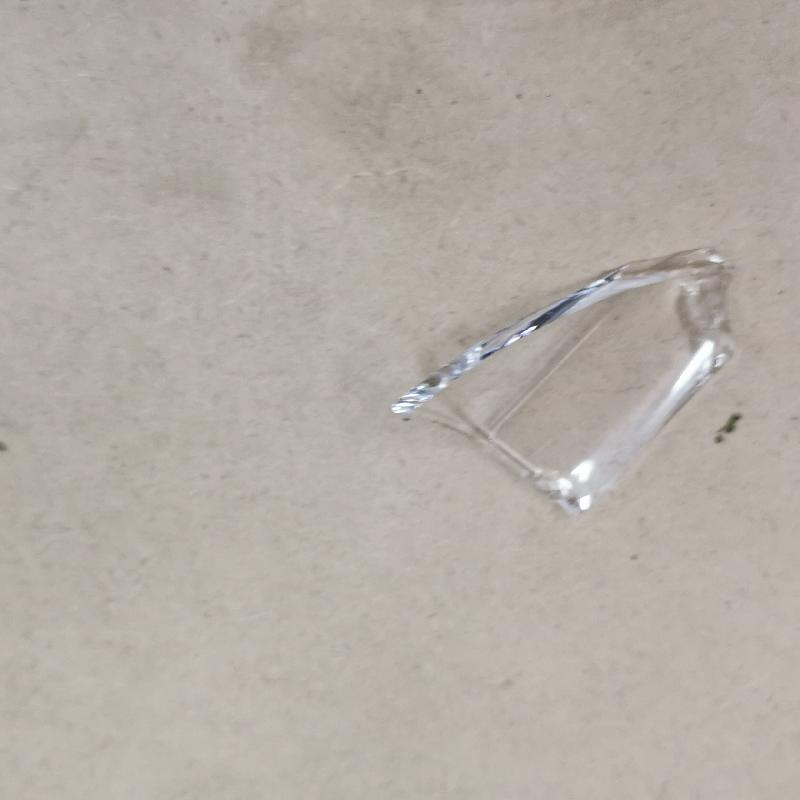glass: (390, 244, 741, 514)
